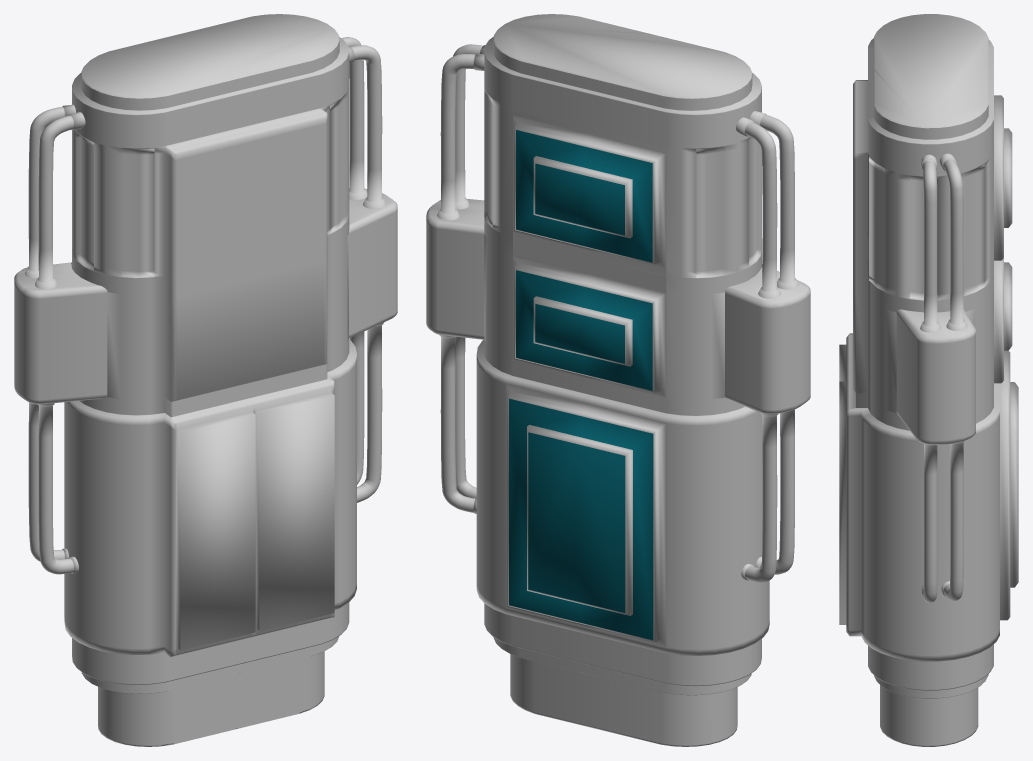
The model's file is Batteries.fbx.
3 renders of one model, left to right at view 1: azimuth 30°, elevation 25°; view 2: azimuth 150°, elevation 25°; view 3: azimuth 270°, elevation 25°, orthographic. The views are drawn at different scales.
Visible parts, largest first — view 1: Batteries; view 2: Batteries; view 3: Batteries.
Part boxes in pixels (x1,y1,x2,y2): Batteries: (14,14,397,746); Batteries: (426,14,810,746); Batteries: (839,14,1018,746).
Bounding box in the file's own units: 25.1 × 42.2 × 10.93.
